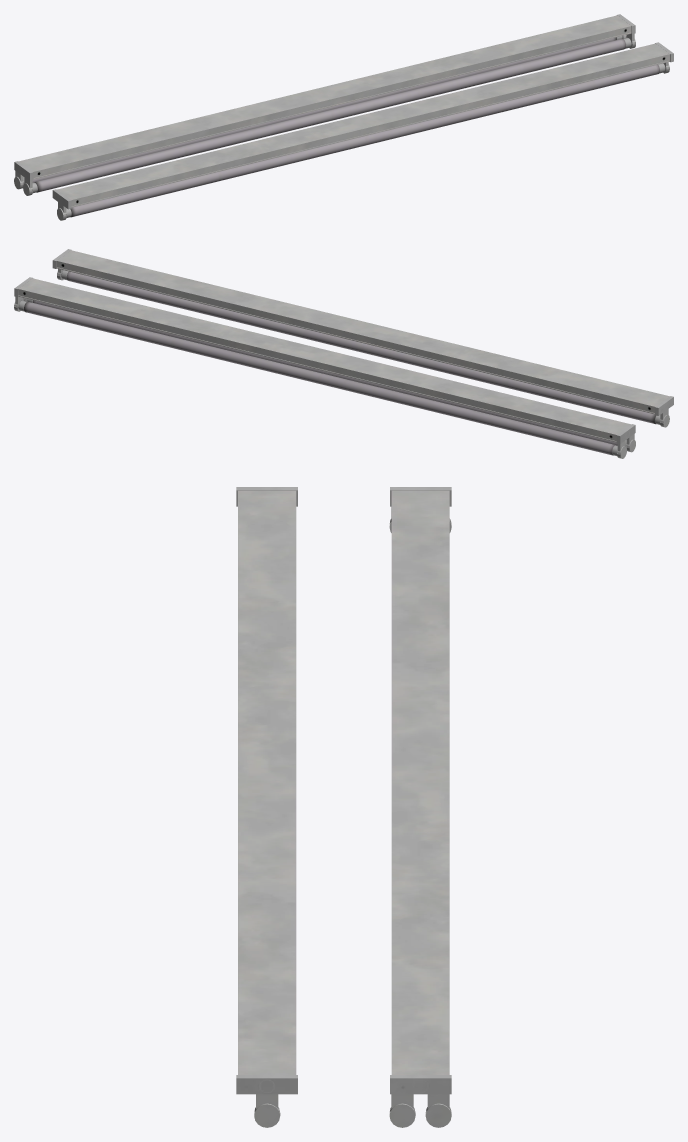
Rendered from lamp_tube.glb.
3 views of the same model, one above another, from view 1: azimuth 30°, elevation 25°; view 2: azimuth 150°, elevation 25°; view 3: azimuth 270°, elevation 25° (orthographic). The views are drawn at different scales.
Visible parts, largest first — view 1: mounted_fluorescent_lights_b, mounted_fluorescent_lights_a; view 2: mounted_fluorescent_lights_b, mounted_fluorescent_lights_a; view 3: mounted_fluorescent_lights_b, mounted_fluorescent_lights_a.
Part boxes in pixels (bbox=[...]): mounted_fluorescent_lights_b: bbox=[14, 14, 635, 195]; mounted_fluorescent_lights_a: bbox=[52, 42, 673, 220]; mounted_fluorescent_lights_b: bbox=[14, 277, 635, 458]; mounted_fluorescent_lights_a: bbox=[52, 249, 673, 427]; mounted_fluorescent_lights_b: bbox=[389, 487, 451, 1127]; mounted_fluorescent_lights_a: bbox=[236, 487, 297, 1127].
Size of the model in its own units: 1.4 by 0.0543 by 0.2152.
2 materials, 2 textured.
